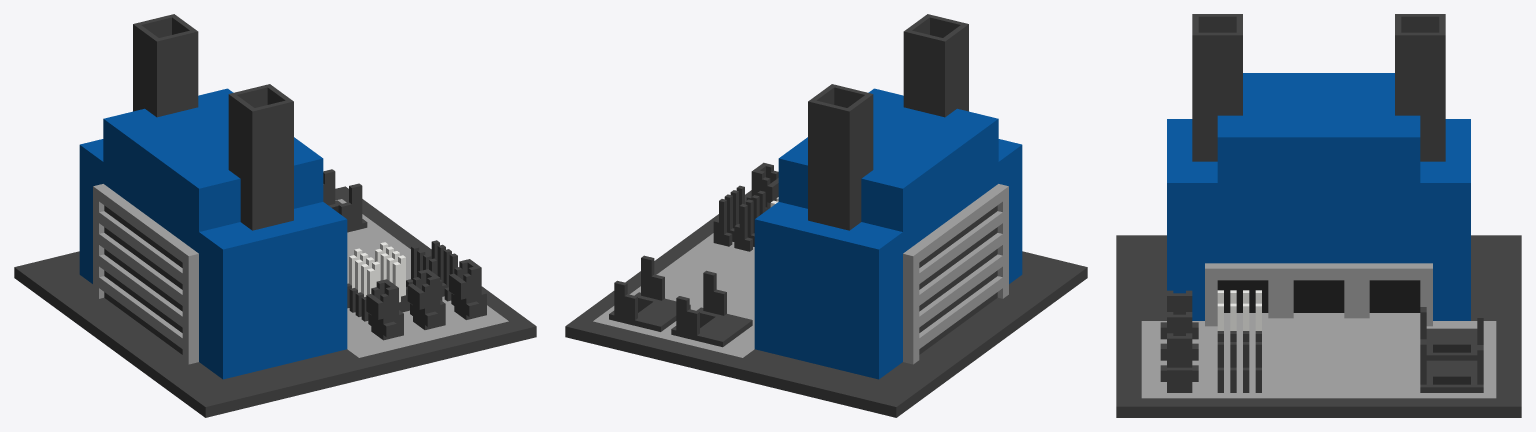
File: Blue-8.obj
The picture shows the model from 3 angles, left to right: view 1: azimuth 30°, elevation 25°; view 2: azimuth 150°, elevation 25°; view 3: azimuth 270°, elevation 25°; orthographic projection. The views are drawn at different scales.
Parts seen in each view (by area): view 1: Blue-8; view 2: Blue-8; view 3: Blue-8.
Part boxes in pixels (<box>): Blue-8: <box>14,14,536,417</box>; Blue-8: <box>565,14,1087,417</box>; Blue-8: <box>1116,14,1521,417</box>.
Bounding box in the file's own units: 64 × 48 × 64.
Materials: 1 (1 with a texture image).
